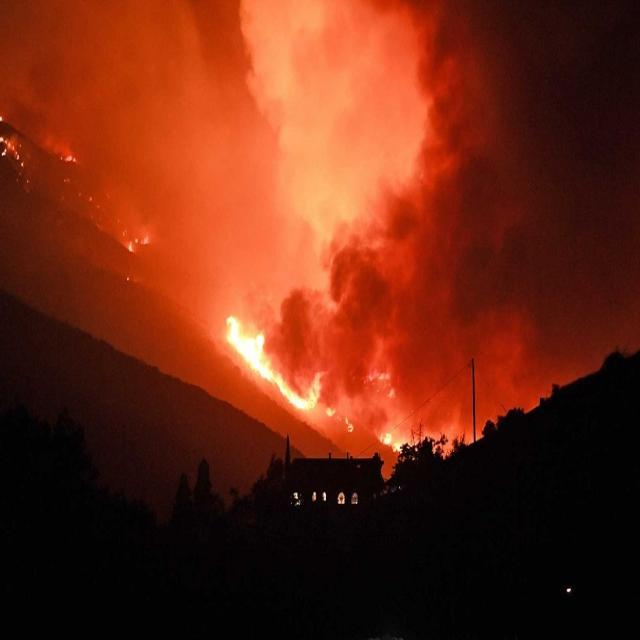Fire: (224, 314, 318, 408), (379, 419, 406, 450), (2, 135, 20, 162), (368, 368, 392, 382), (325, 400, 338, 416), (345, 416, 354, 432), (64, 152, 76, 164), (139, 232, 149, 246), (126, 238, 134, 253), (388, 386, 397, 397)
Smoke: (272, 5, 635, 359)
